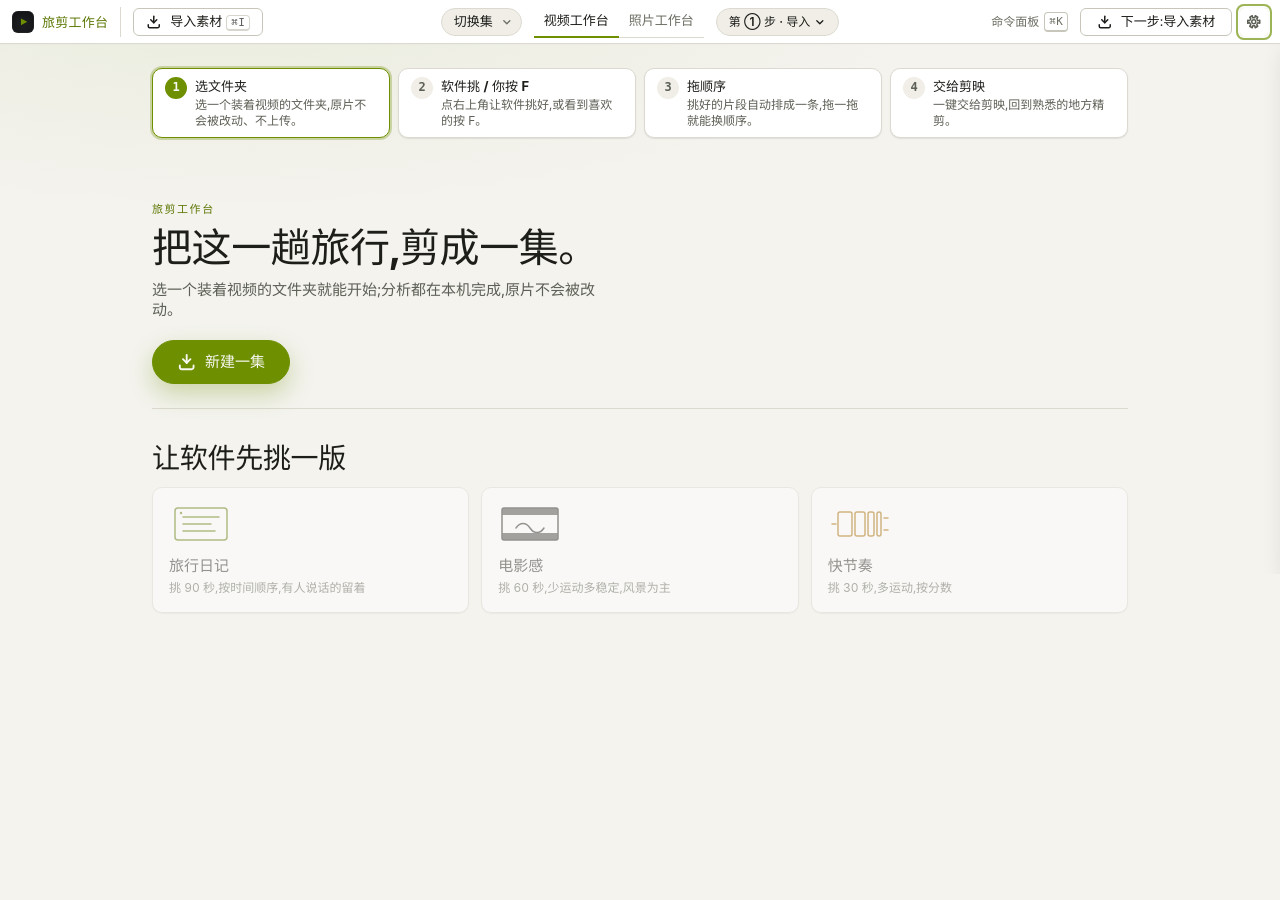
Test: 设置 sheet › 页脚有状态行(role=status),左轨六项中文无 eyebrow;↑↓ Home End 在 tab 间移动;「缓存与重建」在项目与缓存里仍是 danger 卡
Click the button named "设置" at (1254, 22), box [1240,8,1268,36]
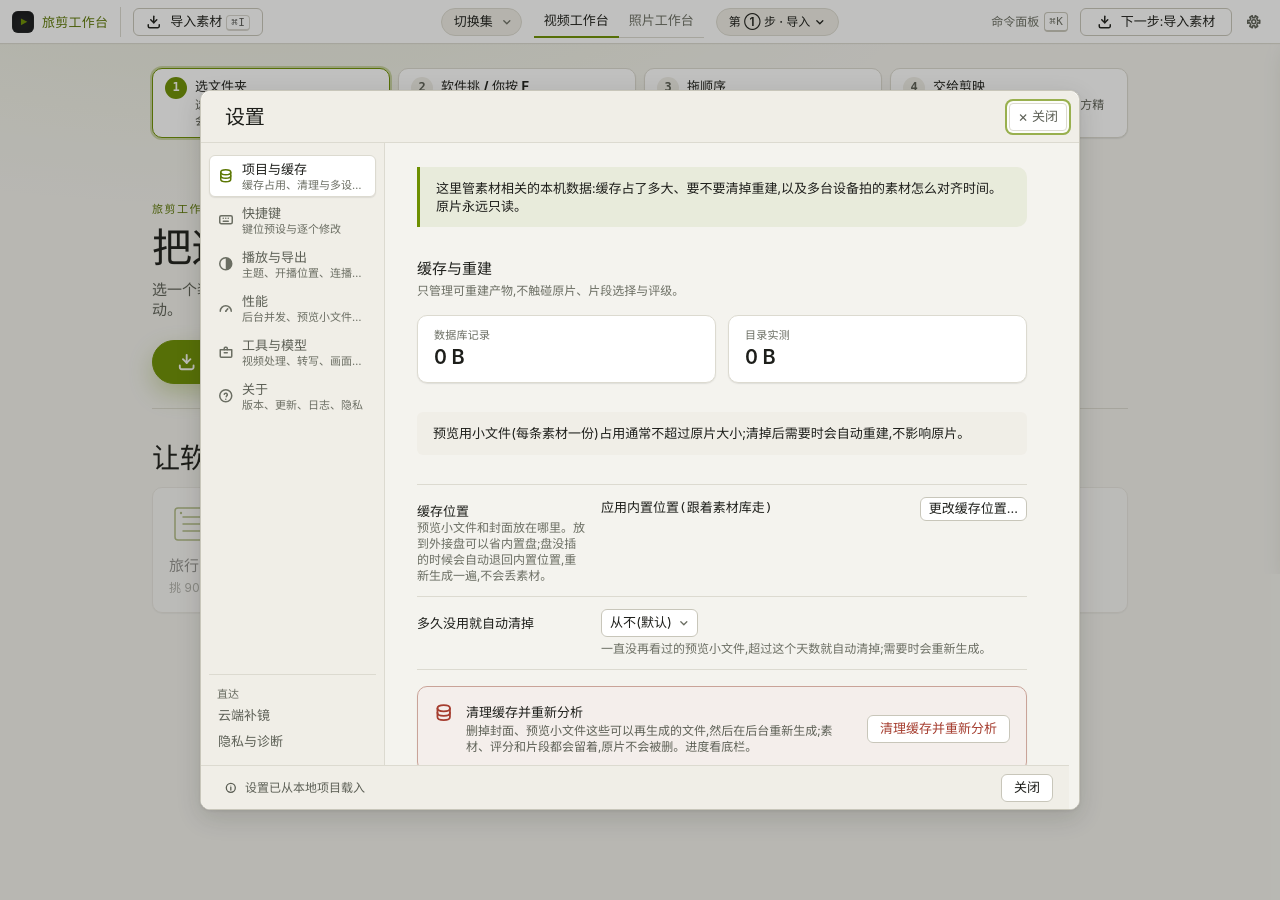
Now the message reads "设置已从本地项目载入", box [245,780,365,794]
Press ArrowDown in the tab "项目与缓存 缓存占用、清理与多设备时间", box [209,155,376,197]
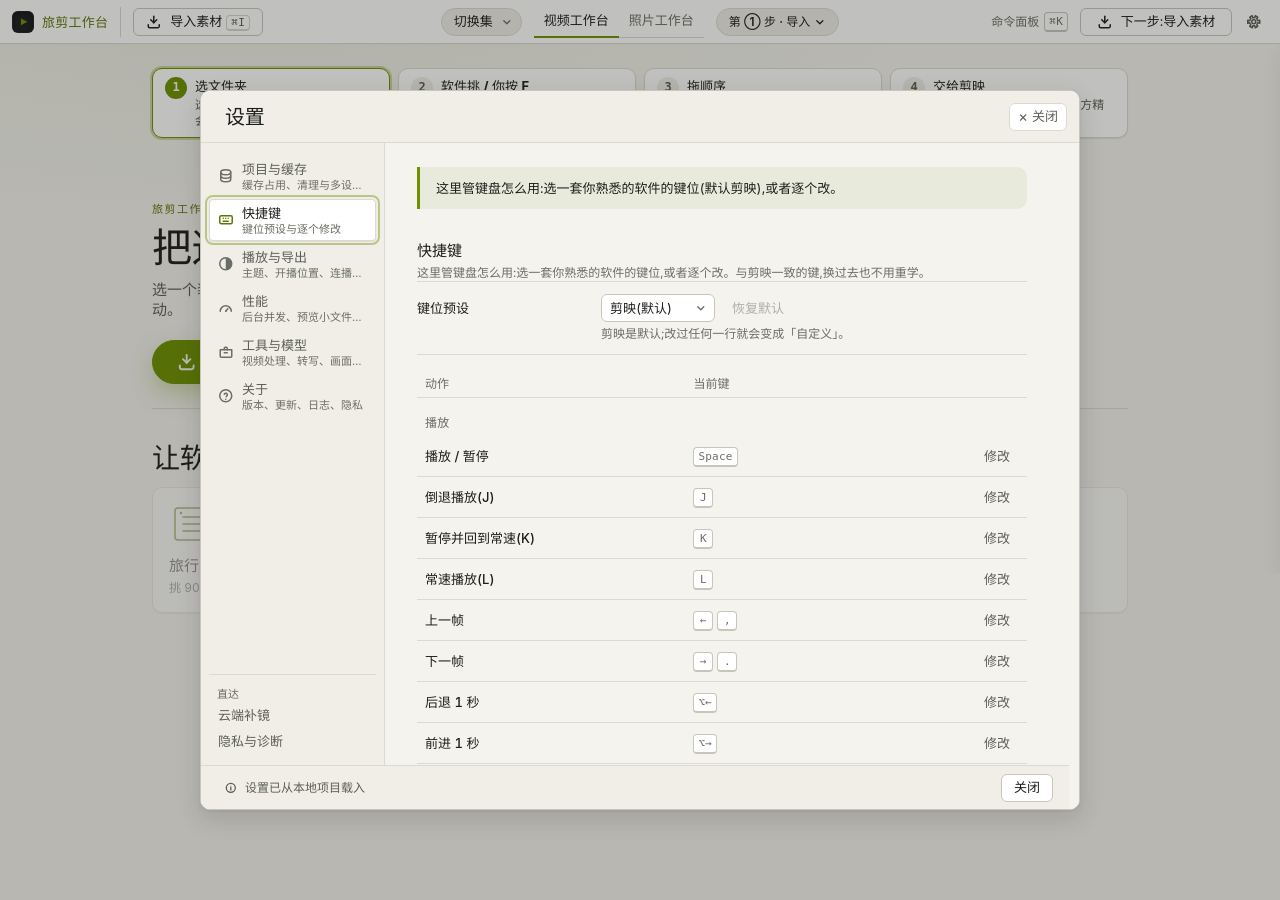
Now the tab "快捷键 键位预设与逐个修改" is selected
Press End in the tab "快捷键 键位预设与逐个修改", box [209,199,376,241]
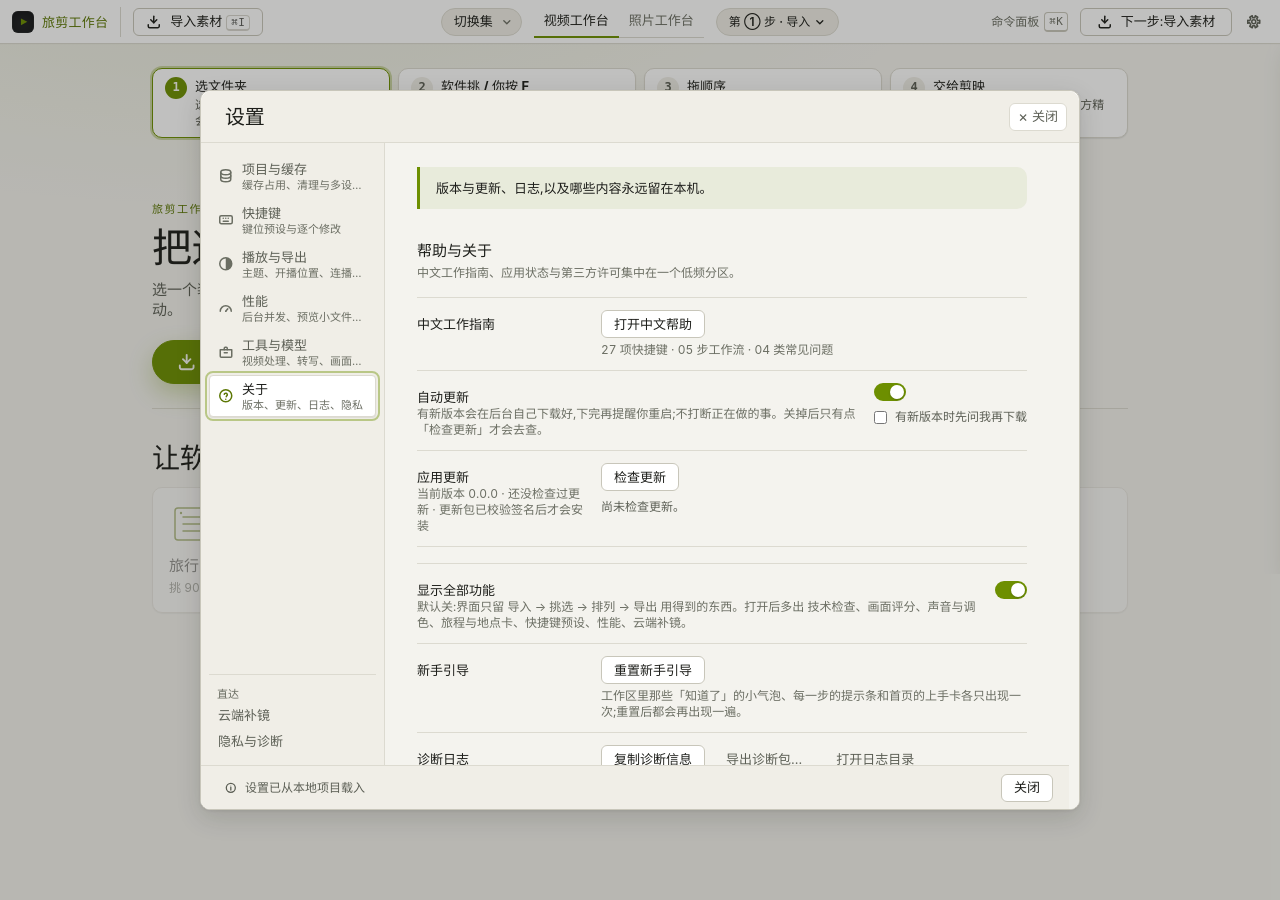
Now the button "打开日志目录" is shown, box [823,745,927,765]
Press Home in the tab "关于 版本、更新、日志、隐私", box [209,375,376,417]
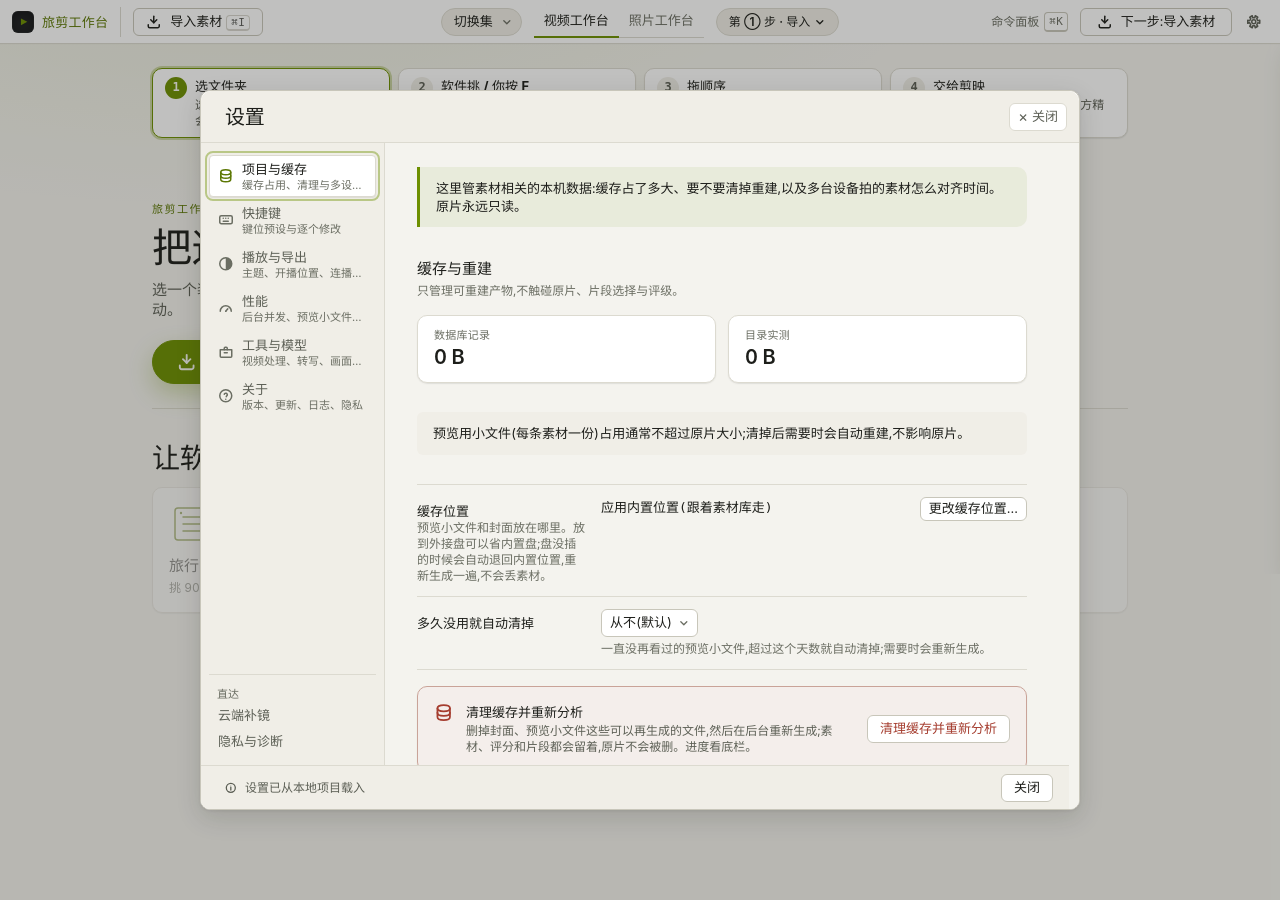
Now the button with aria-label "关闭设置" is shown, box [1001,774,1053,802]
Now the element "清理缓存并重新分析" is shown, box [417,686,1027,765]
